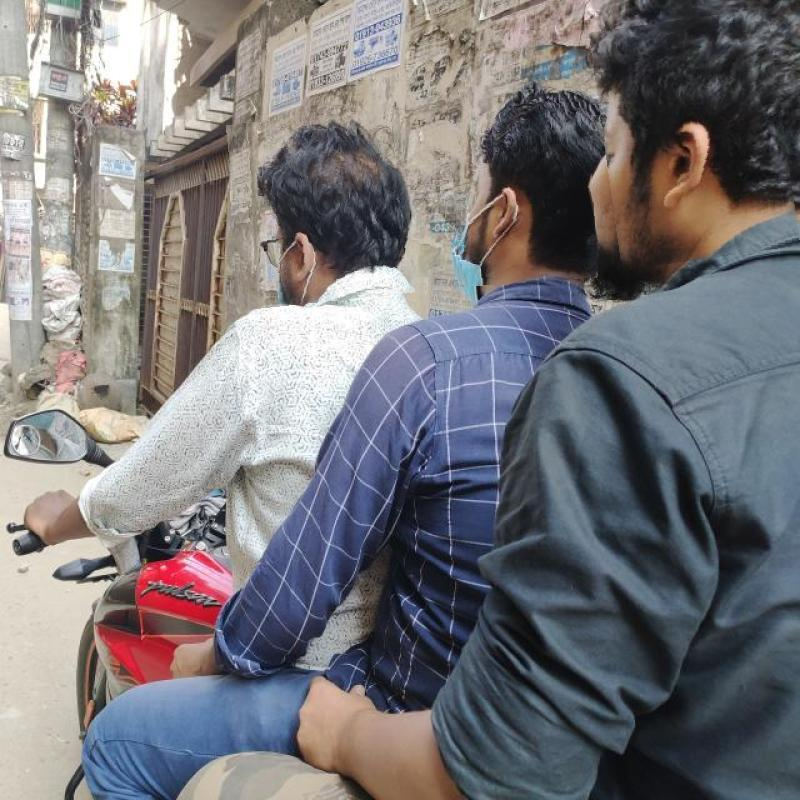nohelmet: (596, 14, 793, 264), (231, 111, 414, 306), (449, 80, 596, 285)
